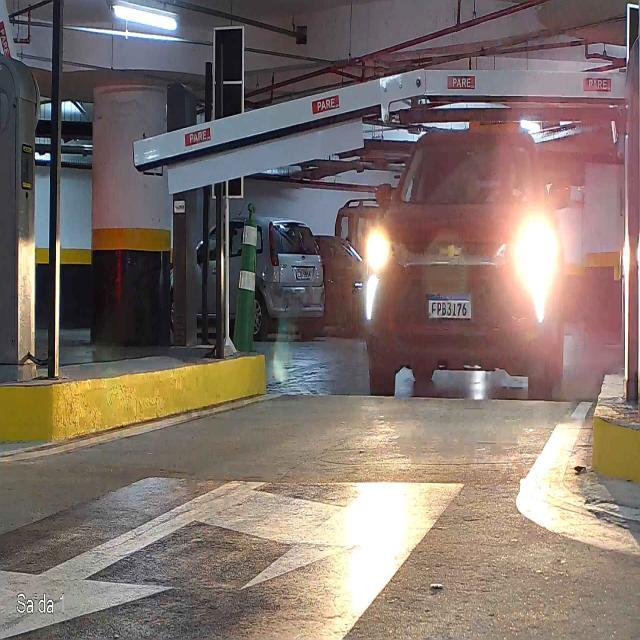mercosul_plate: (426, 294, 473, 320)
